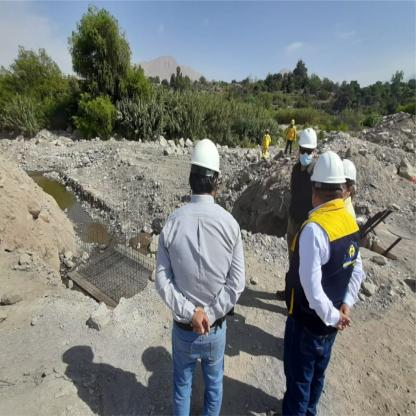person: (159, 123, 243, 415), (286, 146, 366, 416), (284, 110, 298, 164), (258, 127, 274, 166)
